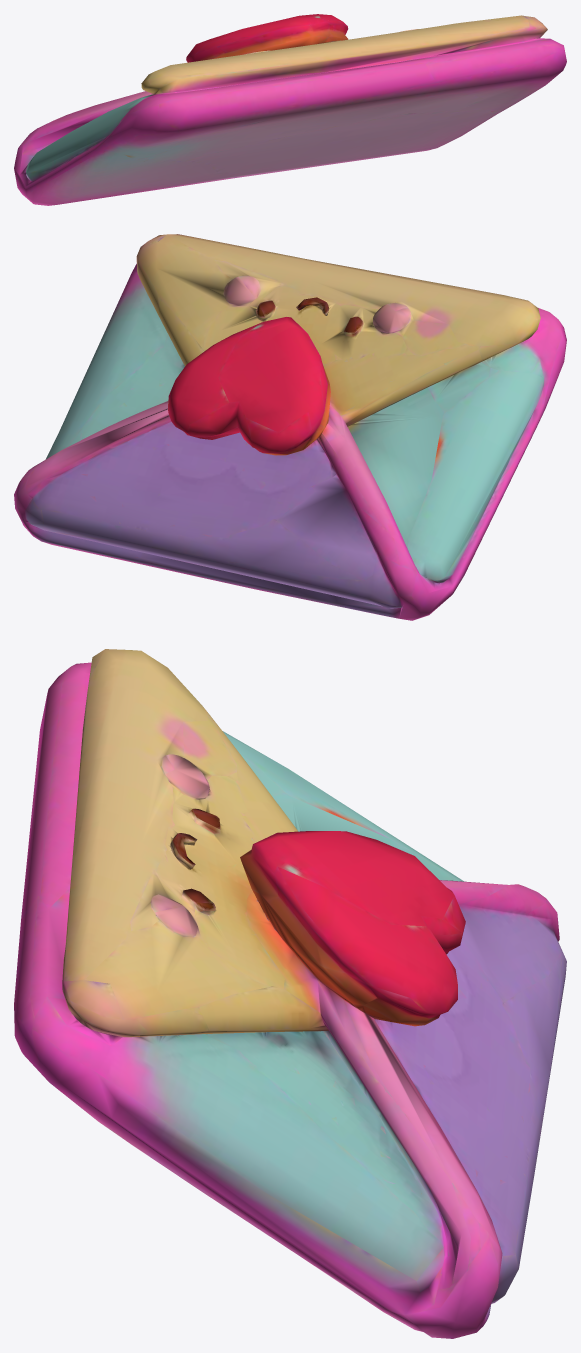
3 views of the same model, one above another, from view 1: azimuth 30°, elevation 25°; view 2: azimuth 150°, elevation 25°; view 3: azimuth 270°, elevation 25° (orthographic). The views are drawn at different scales.
Parts seen in each view (by area): view 1: material; view 2: material; view 3: material.
Part boxes in pixels (box(x1,y1,x2,y2)): material: box(14, 14, 566, 205); material: box(14, 234, 566, 620); material: box(14, 649, 566, 1338).
Bounding box in the file's own units: 1 × 0.5378 × 0.6759.
Materials: 1 (1 with a texture image).
